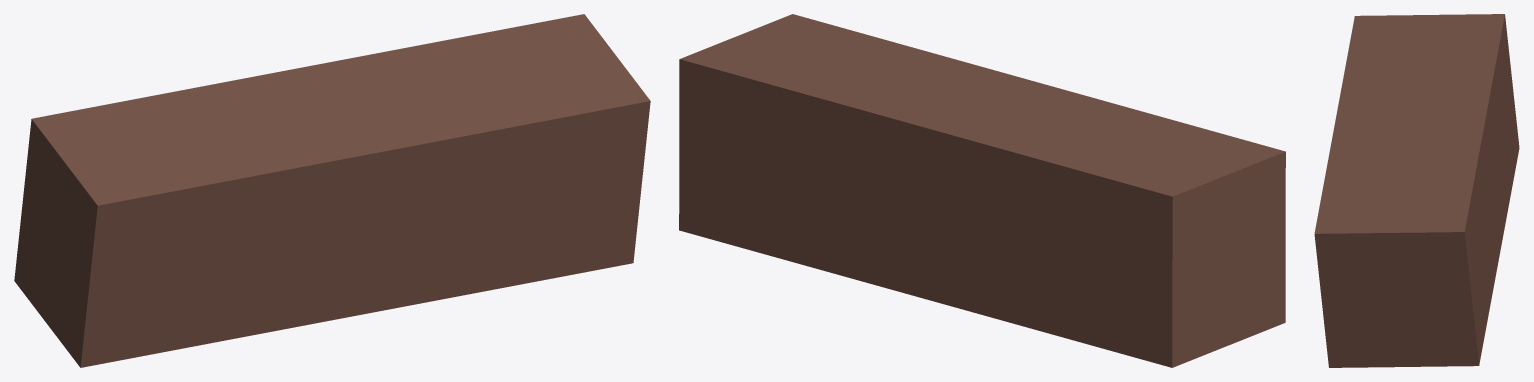
3 views of the same model, side by side, from view 1: azimuth 30°, elevation 25°; view 2: azimuth 150°, elevation 25°; view 3: azimuth 270°, elevation 25° (orthographic). The views are drawn at different scales.
Bounding box in the file's own units: 0.1403 × 0.0447 × 0.0537.
